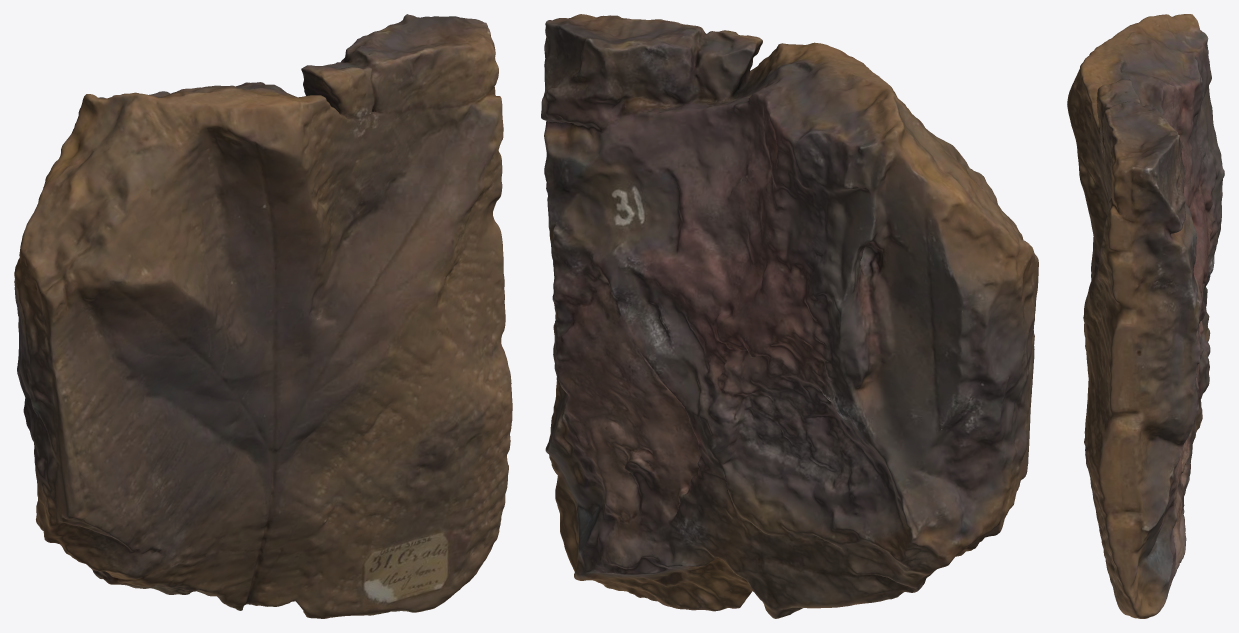
3 views of the same model, side by side, from view 1: azimuth 30°, elevation 25°; view 2: azimuth 150°, elevation 25°; view 3: azimuth 270°, elevation 25° (orthographic). The views are drawn at different scales.
Parts seen in each view (by area): view 1: Aralia_kellingtoniana_-Newberry-_Saporta_-_Marion-unwrapped-; view 2: Aralia_kellingtoniana_-Newberry-_Saporta_-_Marion-unwrapped-; view 3: Aralia_kellingtoniana_-Newberry-_Saporta_-_Marion-unwrapped-.
Part boxes in pixels (left/top/right/bottom): Aralia_kellingtoniana_-Newberry-_Saporta_-_Marion-unwrapped-: left=14, top=14, right=512, bottom=618; Aralia_kellingtoniana_-Newberry-_Saporta_-_Marion-unwrapped-: left=541, top=14, right=1038, bottom=618; Aralia_kellingtoniana_-Newberry-_Saporta_-_Marion-unwrapped-: left=1067, top=14, right=1224, bottom=618.
Bounding box in the file's own units: 5194 × 6037 × 1783.
Materials: 1 (1 with a texture image).
